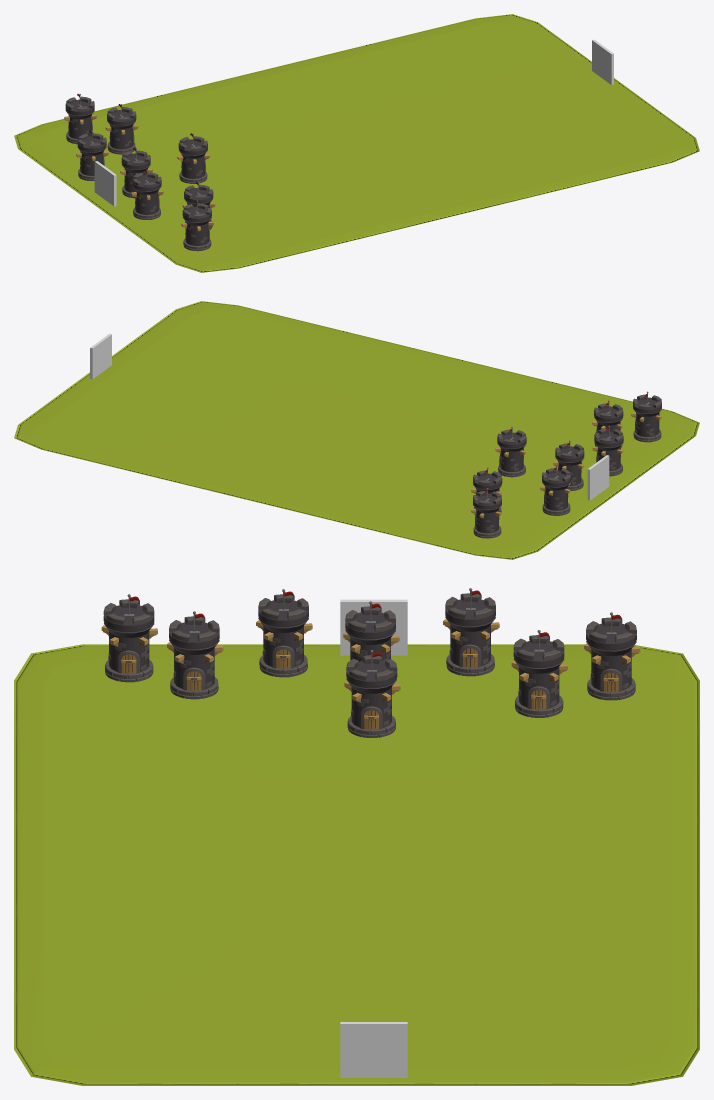
3 renders of one model, top to bottom at view 1: azimuth 30°, elevation 25°; view 2: azimuth 150°, elevation 25°; view 3: azimuth 270°, elevation 25°, orthographic. The views are drawn at different scales.
Visible parts, largest first — view 1: Cube_Grass_Single, Tower.002, Tower.007, Tower.004, Tower.001, Tower, Tower.006, Tower.005, Cube.001, Portal, Tower.003; view 2: Cube_Grass_Single, Tower.002, Tower.007, Tower.006, Tower, Tower.004, Tower.005, Cube.001, Tower.003, Portal, Tower.001; view 3: Cube_Grass_Single, Portal, Tower.006, Tower.002, Tower.003, Tower, Tower.001, Tower.004, Tower.007, Tower.005, Cube.001.
Part boxes in pixels (x1,y1,x2,y2): Cube_Grass_Single: [14, 14, 699, 272]; Tower.002: [181, 200, 213, 251]; Tower.007: [177, 133, 209, 183]; Tower.004: [131, 169, 163, 219]; Tower.001: [105, 104, 138, 154]; Tower: [64, 94, 96, 144]; Tower.006: [76, 130, 108, 180]; Tower.005: [120, 147, 152, 198]; Cube.001: [94, 161, 116, 206]; Portal: [592, 39, 613, 84]; Tower.003: [182, 182, 215, 229]; Cube_Grass_Single: [14, 301, 699, 559]; Tower.002: [631, 391, 661, 442]; Tower.007: [495, 426, 526, 477]; Tower.006: [540, 465, 570, 515]; Tower: [471, 488, 501, 538]; Tower.004: [592, 425, 623, 476]; Tower.005: [553, 440, 584, 490]; Cube.001: [587, 455, 609, 500]; Tower.003: [592, 400, 623, 447]; Portal: [90, 333, 111, 379]; Tower.001: [471, 467, 502, 514]; Cube_Grass_Single: [14, 644, 699, 1085]; Portal: [340, 1022, 407, 1077]; Tower.006: [443, 588, 499, 676]; Tower.002: [101, 594, 157, 682]; Tower.003: [167, 611, 223, 699]; Tower: [584, 612, 640, 700]; Tower.001: [511, 630, 567, 717]; Tower.004: [256, 589, 312, 677]; Tower.007: [344, 650, 400, 737]; Tower.005: [343, 601, 399, 661]; Cube.001: [340, 599, 407, 655].
Size of the model in its own units: 17400 by 1629 by 11426.
